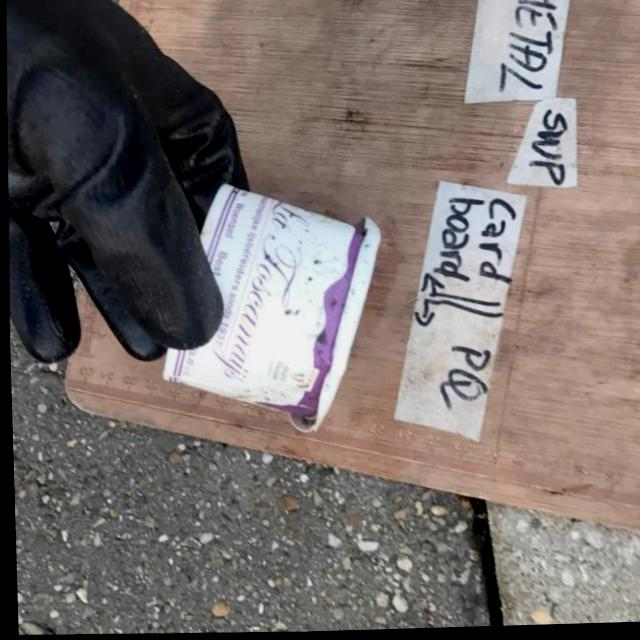Paper: (152, 172, 387, 441)
